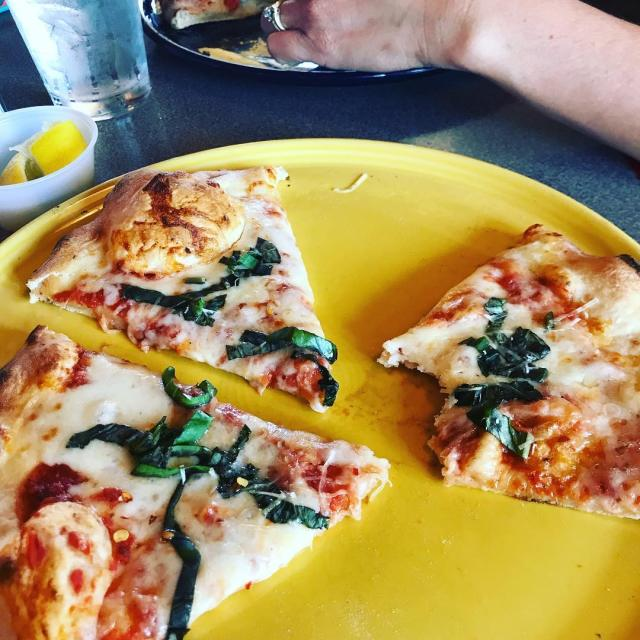basil: (65, 417, 276, 499), (459, 289, 564, 383), (152, 464, 205, 640), (449, 375, 540, 462), (115, 275, 236, 330), (222, 322, 344, 366), (245, 486, 336, 535), (217, 233, 283, 288), (155, 360, 221, 410)
pizza: (0, 323, 393, 640), (22, 160, 342, 418), (375, 221, 640, 523)
